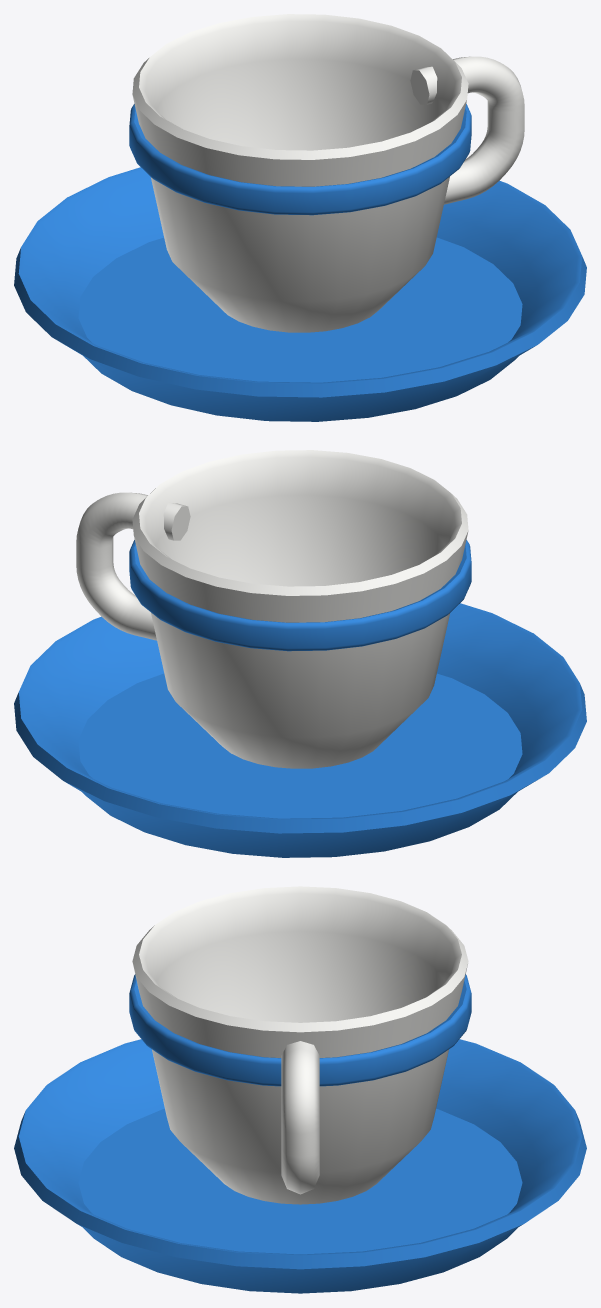
The model's file is xicara_pires_azul.glb.
3 views of the same model, one above another, from view 1: azimuth 30°, elevation 25°; view 2: azimuth 150°, elevation 25°; view 3: azimuth 270°, elevation 25° (orthographic).
Visible parts, largest first — view 1: xicara_pires_azul; view 2: xicara_pires_azul; view 3: xicara_pires_azul.
Boxes of the visible parts, x1,y1,x2,y2 form: xicara_pires_azul: (14, 14, 586, 421); xicara_pires_azul: (14, 450, 586, 857); xicara_pires_azul: (14, 886, 586, 1293).
Bounding box in the file's own units: 0.15 × 0.0699 × 0.15.
Materials: 1 (1 with a texture image).
